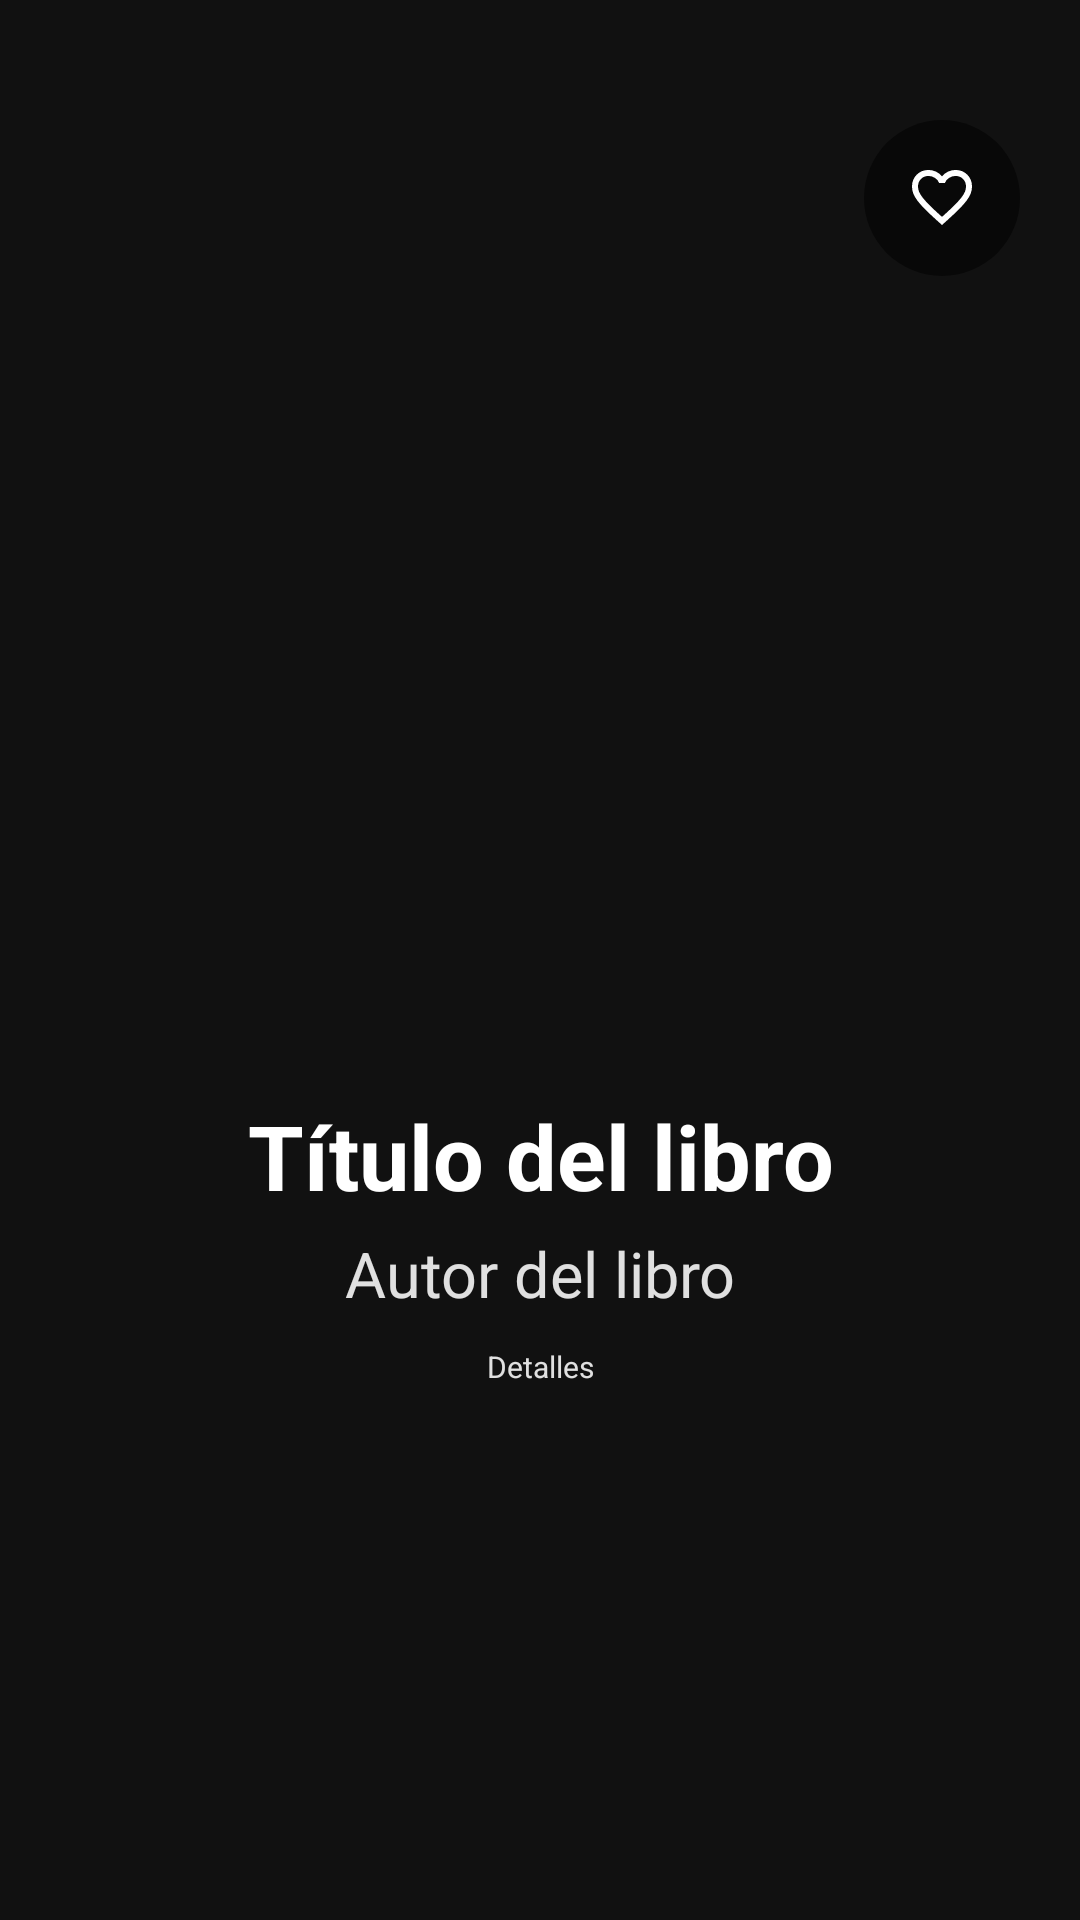

Point at icon controls on the screen. Image size 1080 x 1920, points as (x,y).
favorite: (942,198)
